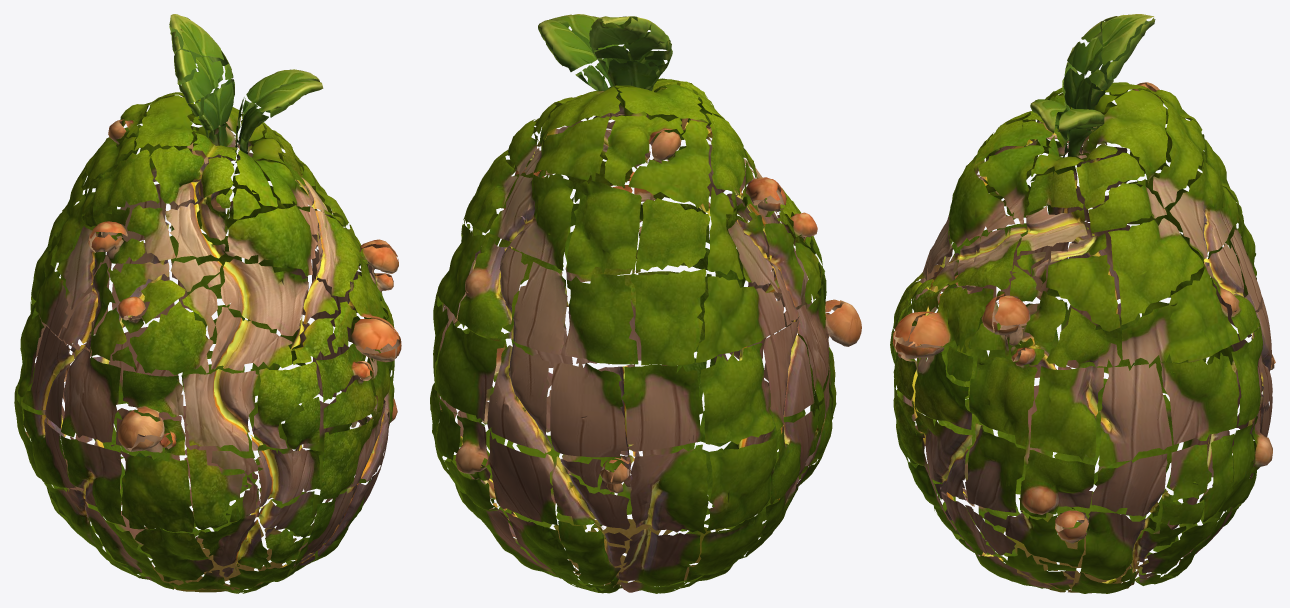
File: oeuf.glb
3 renders of one model, left to right at view 1: azimuth 30°, elevation 25°; view 2: azimuth 150°, elevation 25°; view 3: azimuth 270°, elevation 25°, orthographic. The views are drawn at different scales.
Parts seen in each view (by area): view 1: mesh_node; view 2: mesh_node; view 3: mesh_node.
Boxes of the visible parts, box(x1,y1,x2,y2) form: mesh_node: box(14, 14, 401, 593); mesh_node: box(430, 14, 861, 593); mesh_node: box(890, 14, 1275, 593).
Size of the model in its own units: 1.22 by 1.9 by 1.2.
Materials: 1 (1 with a texture image).
